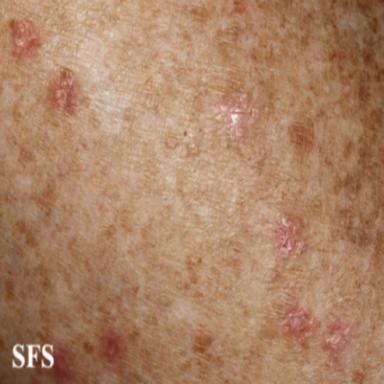Porokeratosis: (215, 93, 259, 140), (280, 300, 315, 348), (47, 68, 79, 115), (275, 213, 307, 258), (323, 315, 349, 364), (10, 20, 41, 56), (100, 326, 125, 364)
